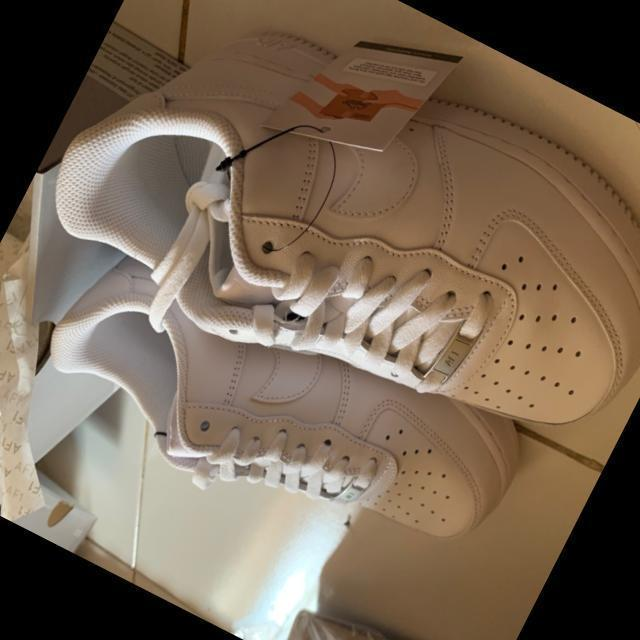nike original air force: (18, 0, 640, 516), (22, 210, 540, 610)
